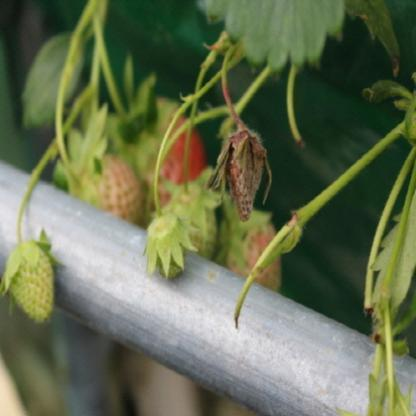Strawberry_Gray_Mold: (204, 112, 272, 223)
